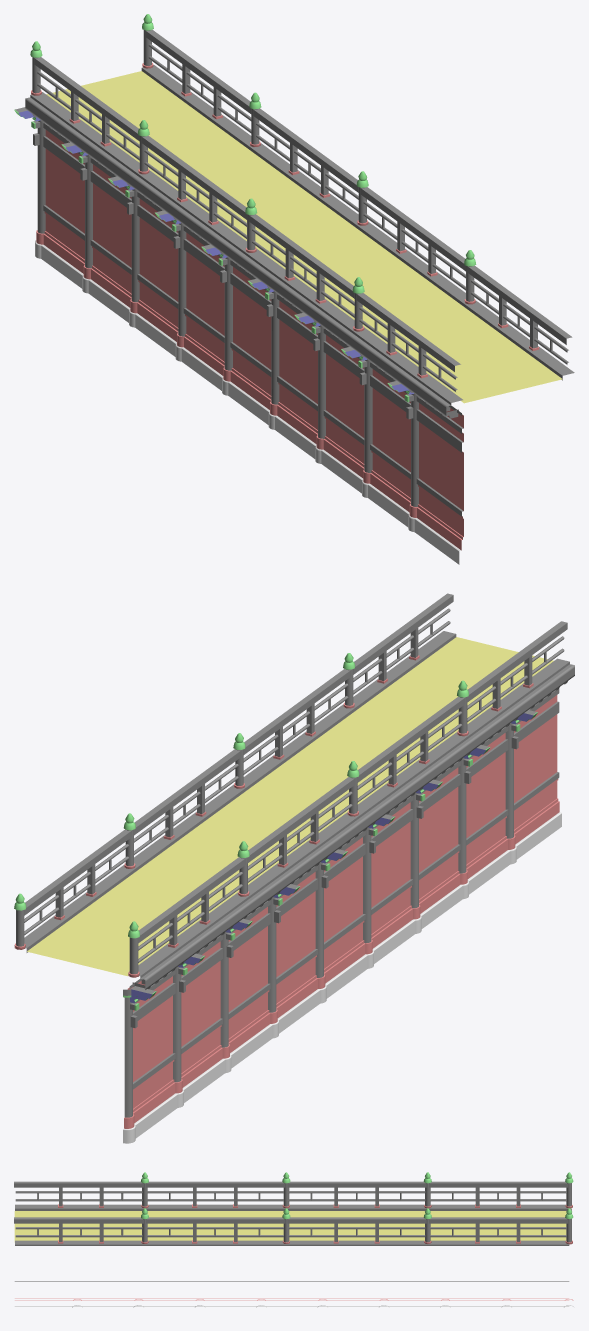
The model's file is SM_ENV_LKNVLD_WallSet_Straight.gltf.
3 views of the same model, one above another, from view 1: azimuth 30°, elevation 25°; view 2: azimuth 150°, elevation 25°; view 3: azimuth 270°, elevation 25° (orthographic). The views are drawn at different scales.
Visible parts, largest first — view 1: SM_ENV_LKNVLD_WallSet_Straight; view 2: SM_ENV_LKNVLD_WallSet_Straight; view 3: SM_ENV_LKNVLD_WallSet_Straight.
Part boxes in pixels (box(x1,y1,x2,y2)): SM_ENV_LKNVLD_WallSet_Straight: box(14, 14, 574, 564); SM_ENV_LKNVLD_WallSet_Straight: box(14, 593, 574, 1143); SM_ENV_LKNVLD_WallSet_Straight: box(14, 1172, 574, 1307).
Bounding box in the file's own units: 5.58 × 8.33 × 29.87.
